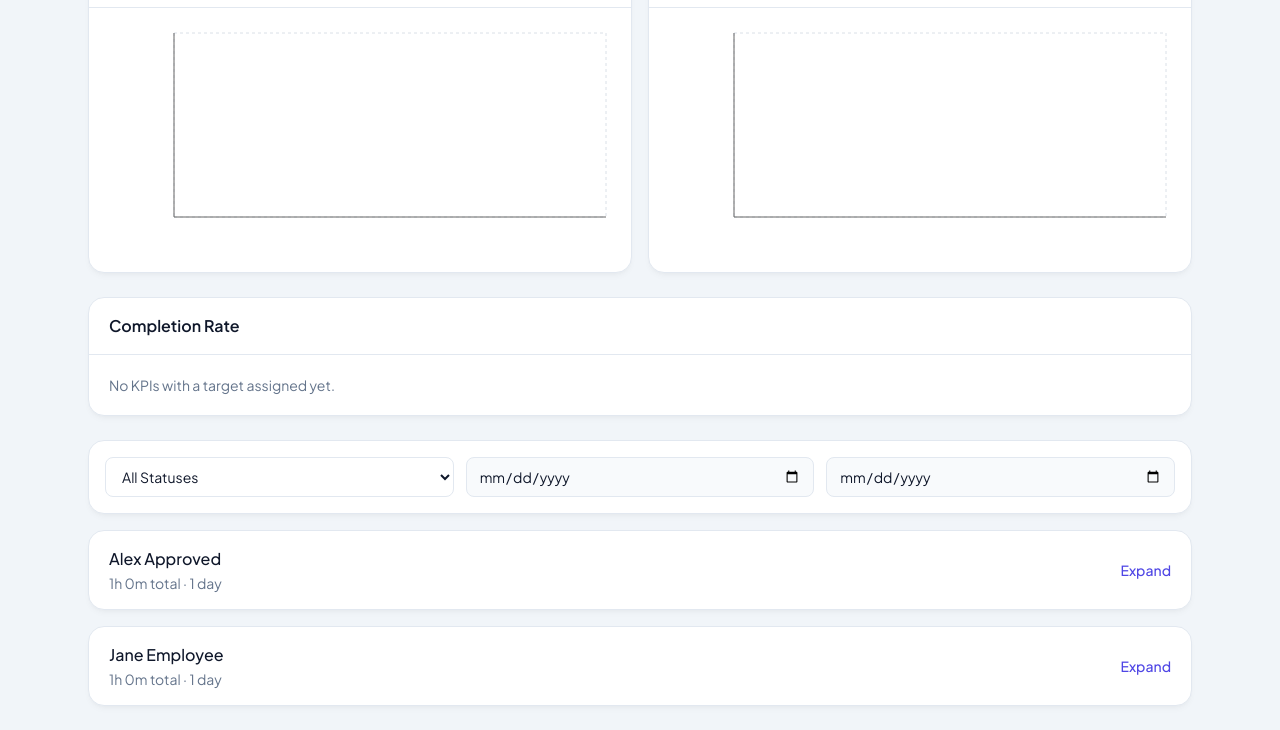
Scenario: TeamTimesheetsPage › filters grouped timesheets by status
This screenshot has width=1280, height=730.
(page scrolled)
Check: the text "Jane Employee" is shown, box [109, 643, 224, 667]
Check: the text "Alex Approved" is shown, box [109, 547, 222, 571]
Select "Approved" in the dropdown showing "All Statuses" at point(279, 477), box [105, 457, 454, 497]
(page scrolled)
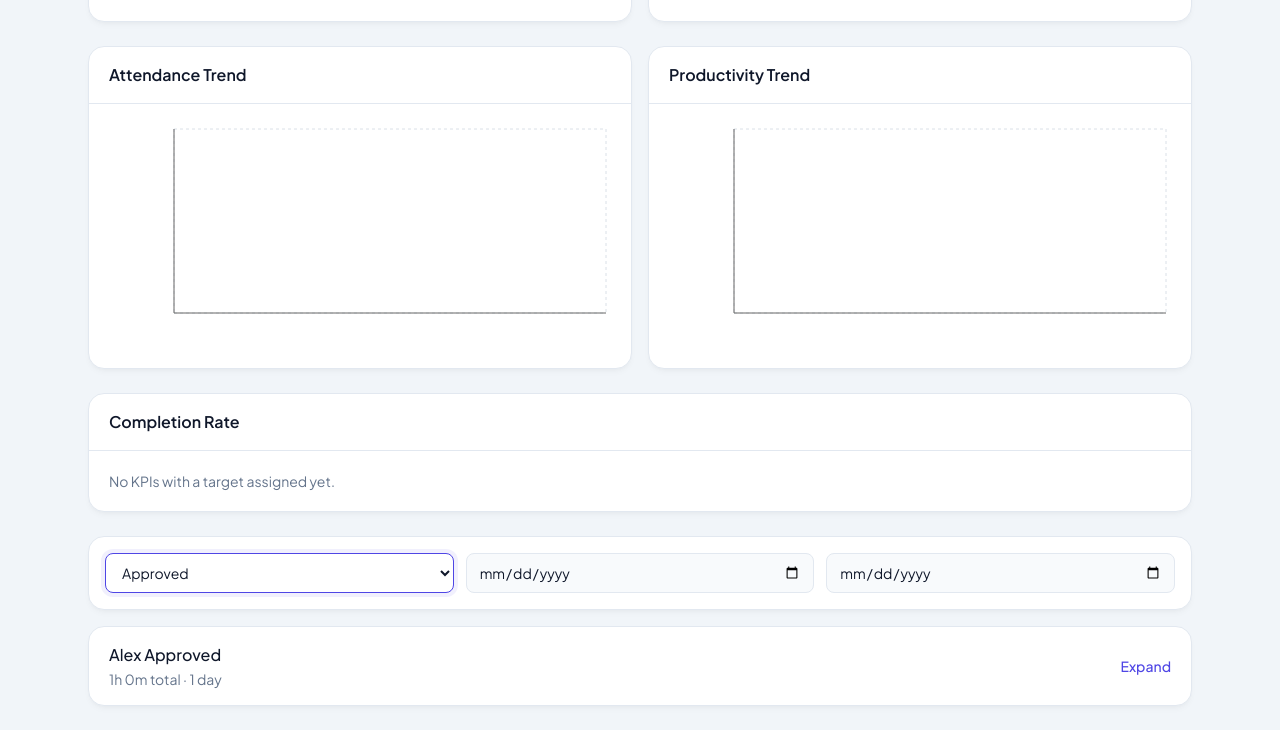
Check: the text "Alex Approved" is shown, box [109, 643, 222, 667]
Check: the button "Jane Employee" is gone
